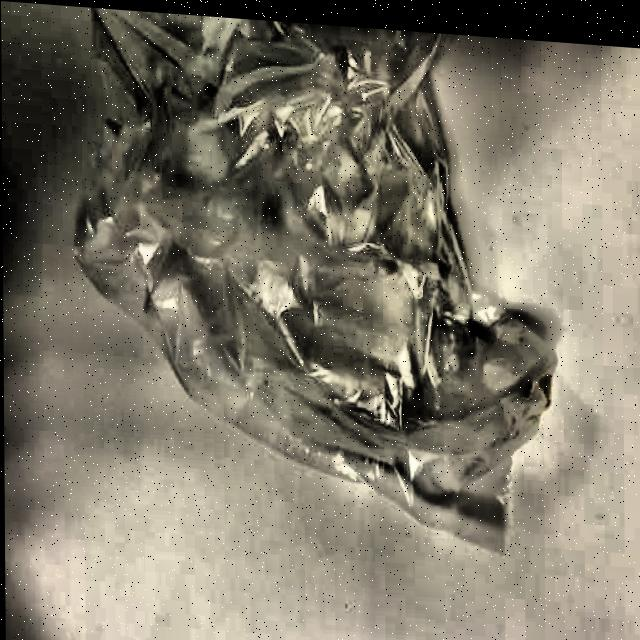plastic: (65, 5, 568, 585)
